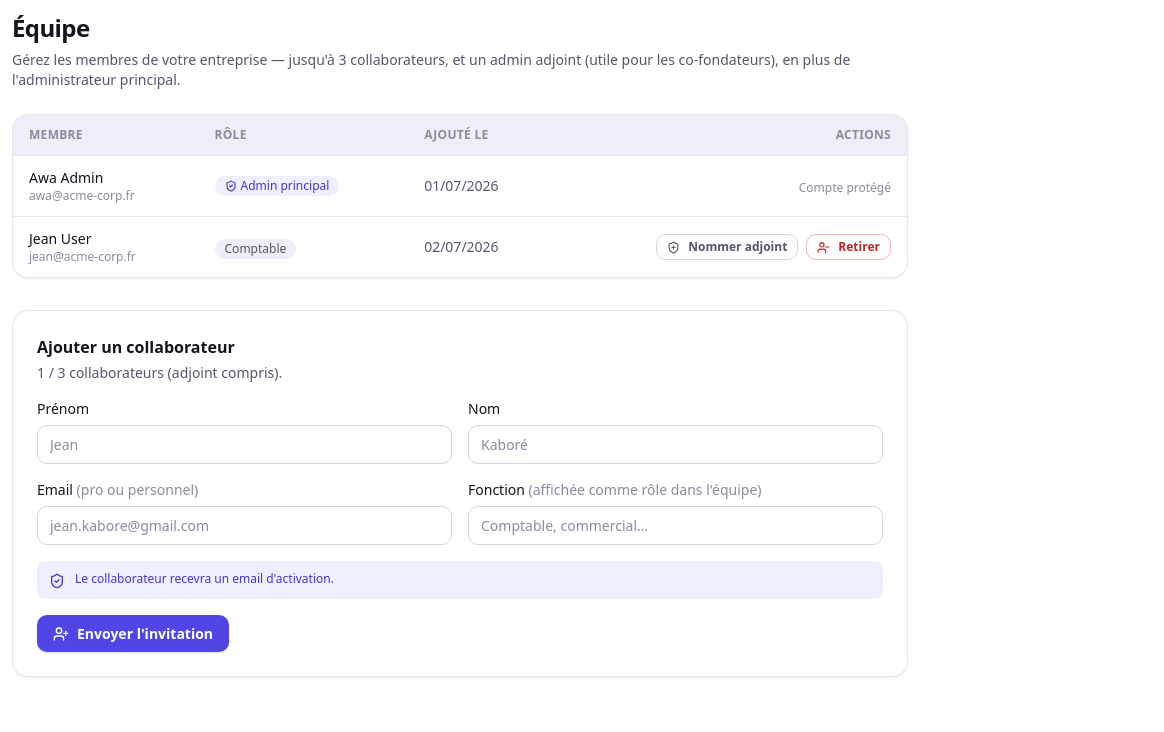
Test: TeamPage — retrait d'un utilisateur › confirme puis appelle DELETE /team/members/{id}
Click the button with aria-label "Retirer Jean User".
click(849, 247)  # box [806,234,891,260]
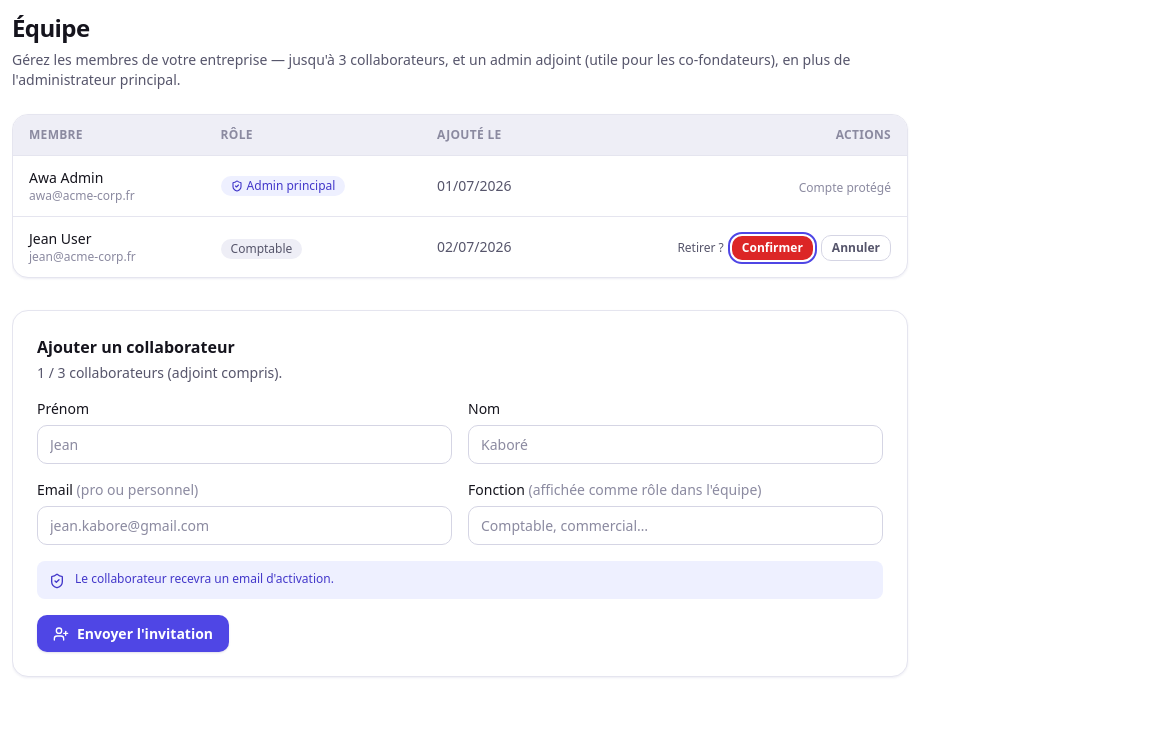
# Étape de confirmation avant l'action destructrice.
Click the button "Confirmer".
click(772, 248)  # box [732,236,813,260]
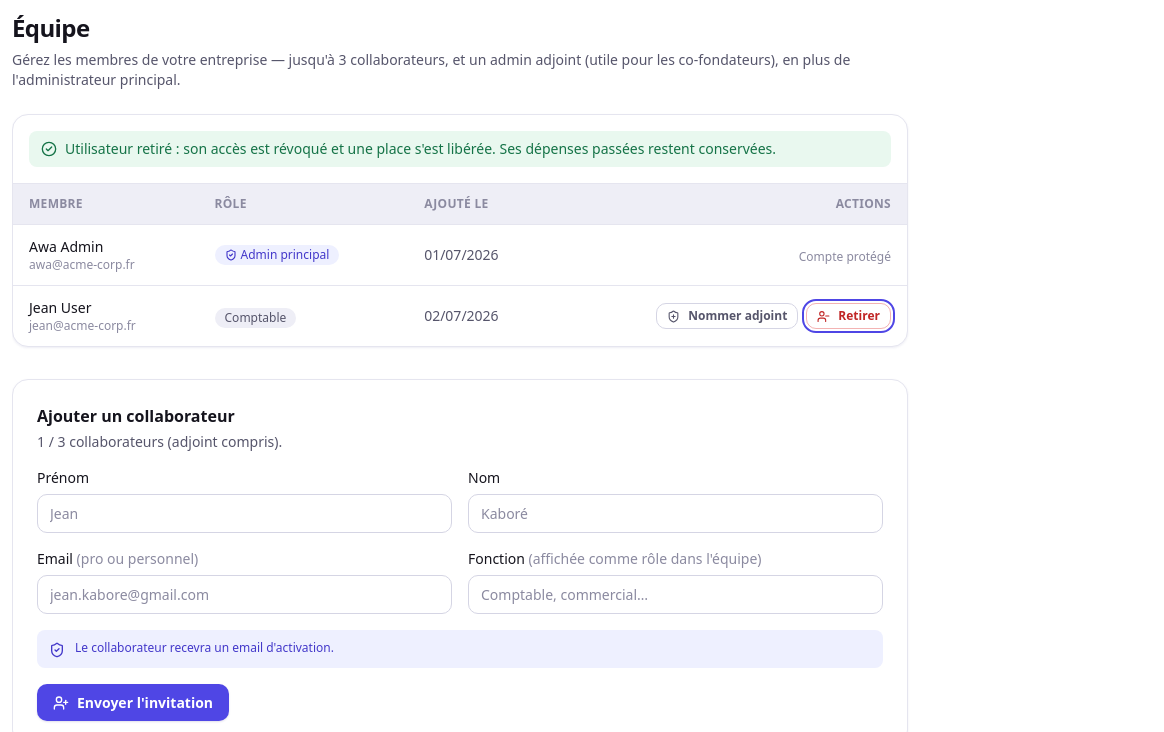
Now the text "Utilisateur retiré" is shown, box [65,139,776,158]
